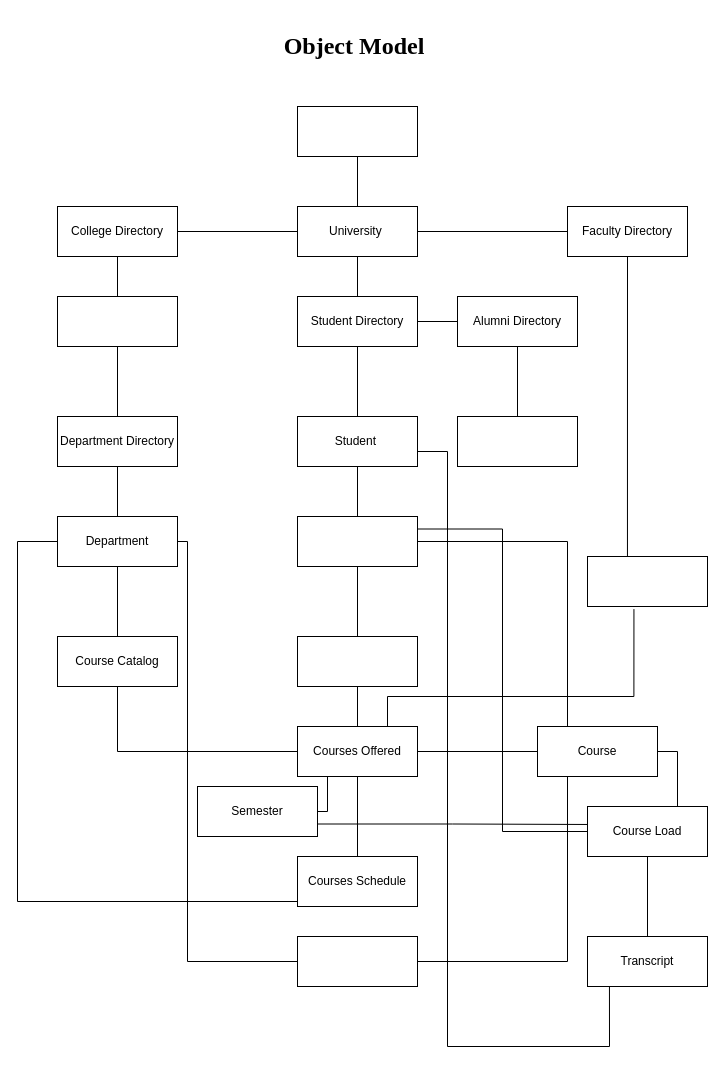
Some shapes in this 725 by 1065 pixel diagram are drawn without their labels. The shapes that lost their labels are listed below. From the top down, each one's centre as x and y in pixels, then its label:
pixel 357 131: University Directory
pixel 117 321: College
pixel 517 441: Alumni
pixel 357 541: Seat Assignment
pixel 647 581: Teacher
pixel 357 661: Seat
pixel 357 961: Degree Requirements
